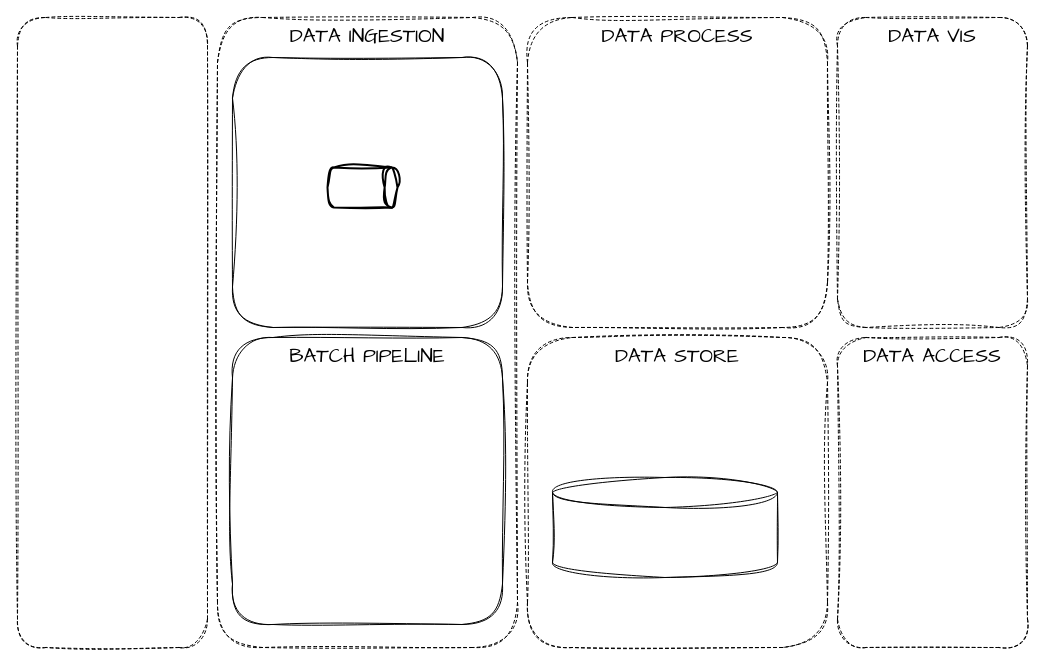
The diagram is 1045 pixels wide and 665 high, and some of its shapes have lost their labels. The shapes that lost their labels are listed below. From the top down, each one's box as (x1, y1, x2, y2) in pixels, then its label:
(232, 56, 502, 328): REAL TIME PIPELINE
(16, 16, 208, 648): DATA SOURCES
(552, 476, 778, 578): DATA LAKE
